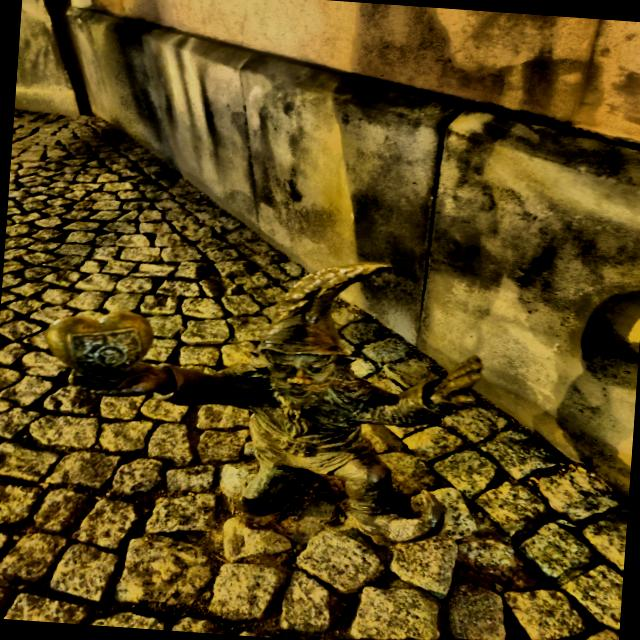WrocLovek: (37, 258, 485, 548)
